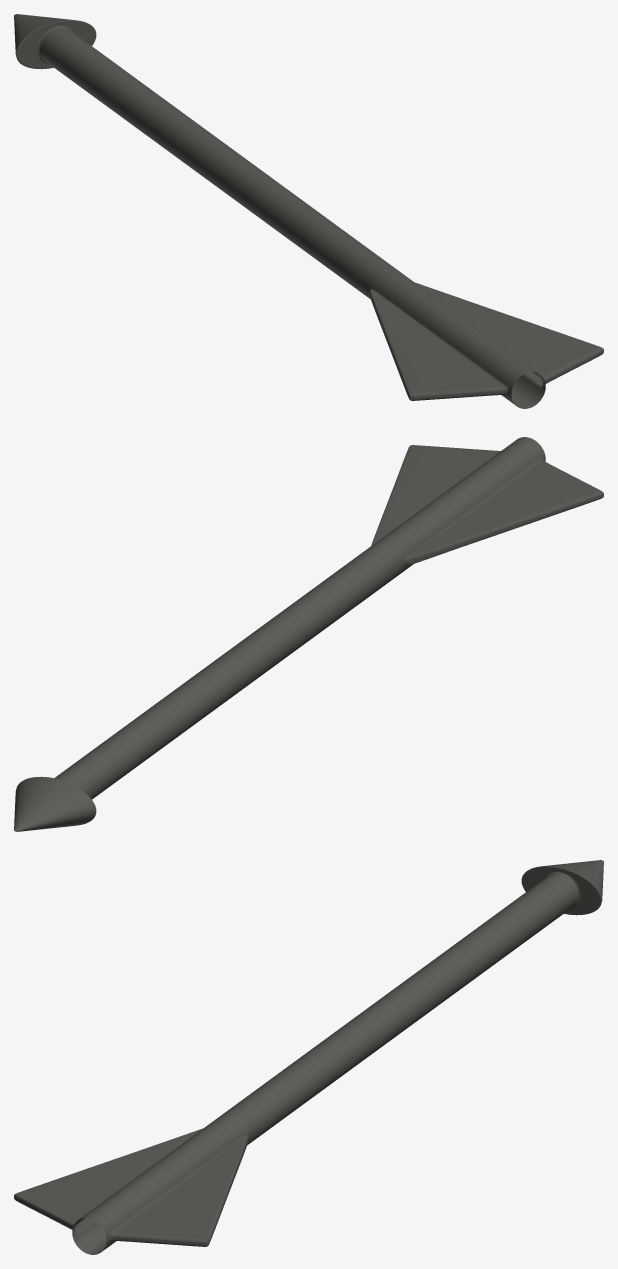
Rendered from Bolt.fbx.
3 renders of one model, top to bottom at view 1: azimuth 30°, elevation 25°; view 2: azimuth 150°, elevation 25°; view 3: azimuth 330°, elevation 25°, orthographic.
Parts seen in each view (by area): view 1: Bolt; view 2: Bolt; view 3: Bolt.
Boxes of the visible parts, bbox=[...] form: Bolt: bbox=[14, 14, 603, 408]; Bolt: bbox=[14, 437, 603, 831]; Bolt: bbox=[14, 860, 603, 1254].
Bounding box in the file's own units: 14.6 × 3.22 × 66.79.
Materials: 1 (1 with a texture image).
